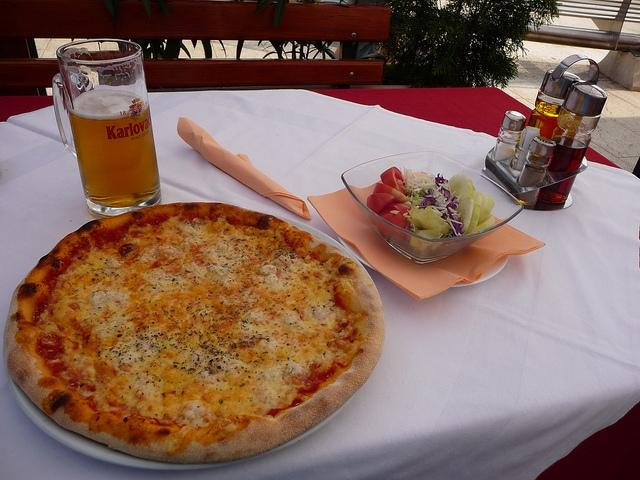tomato: (380, 166, 408, 196), (372, 183, 410, 204), (367, 192, 398, 214), (378, 208, 407, 228), (386, 204, 412, 216)
